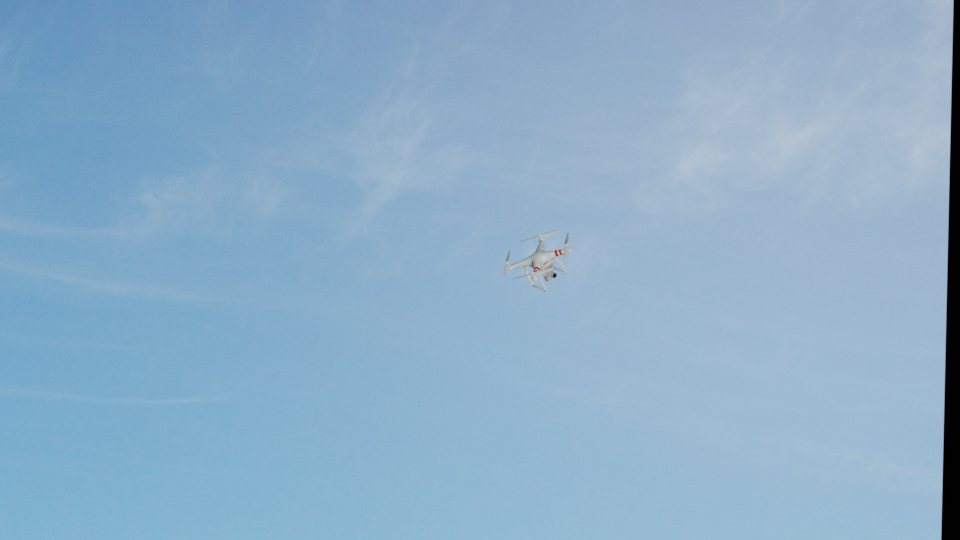drone: (503, 228, 573, 291)
